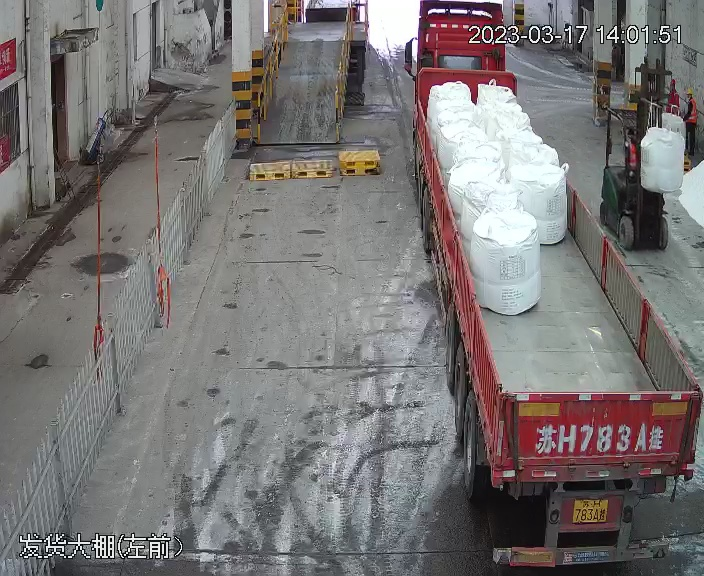head: (681, 87, 697, 108)
helmet: (686, 87, 694, 94)
people: (678, 84, 699, 169)
truck: (403, 5, 704, 563)
